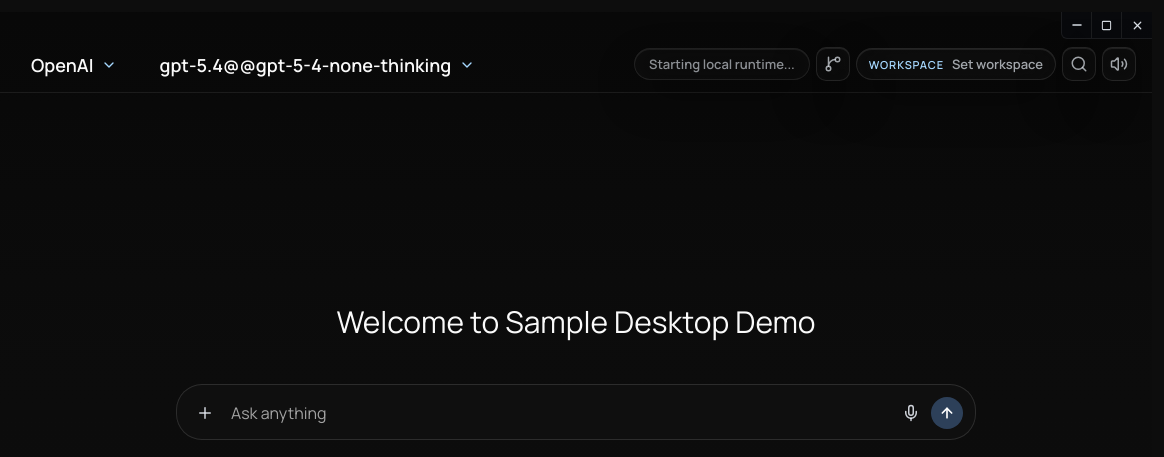
Test case: ChatInterface wiring › workspace button requests a new workspace selection
Step 1. Click the button with aria-label "Set active workspace" → (956, 64), box [856,48,1056,80]
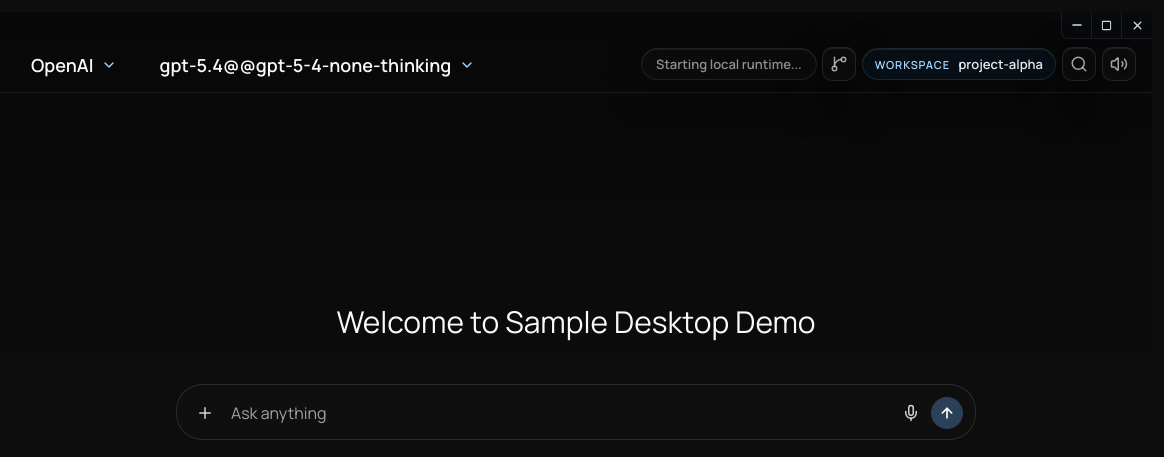
Expected: the button with aria-label "Change active workspace from project-alpha" is shown, [862,48,1056,80]
